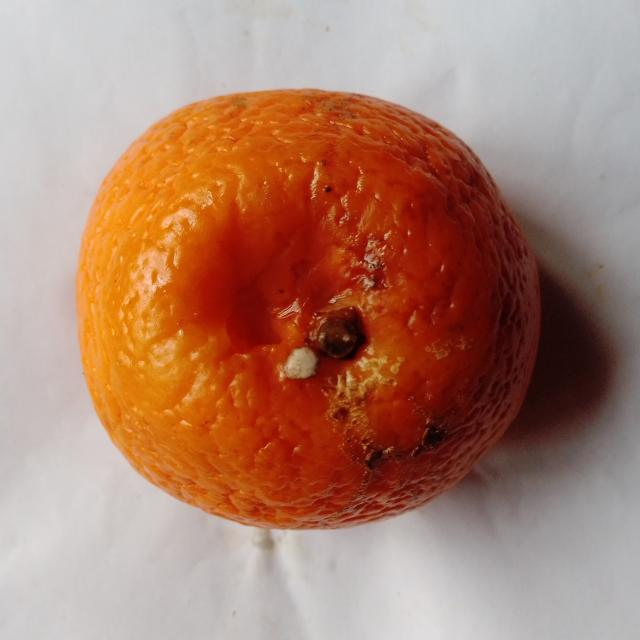orange: (77, 90, 539, 528)
